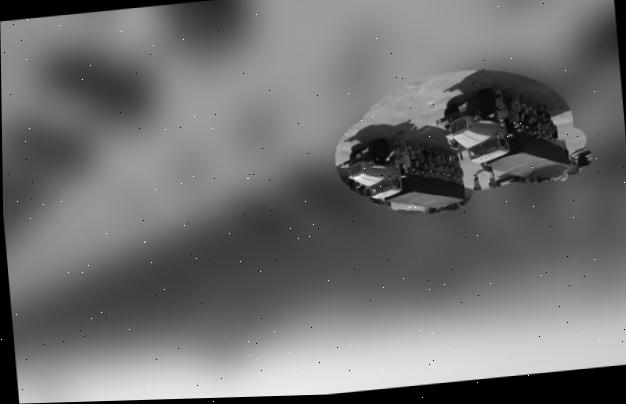truck: (437, 86, 574, 190), (346, 130, 470, 218)
